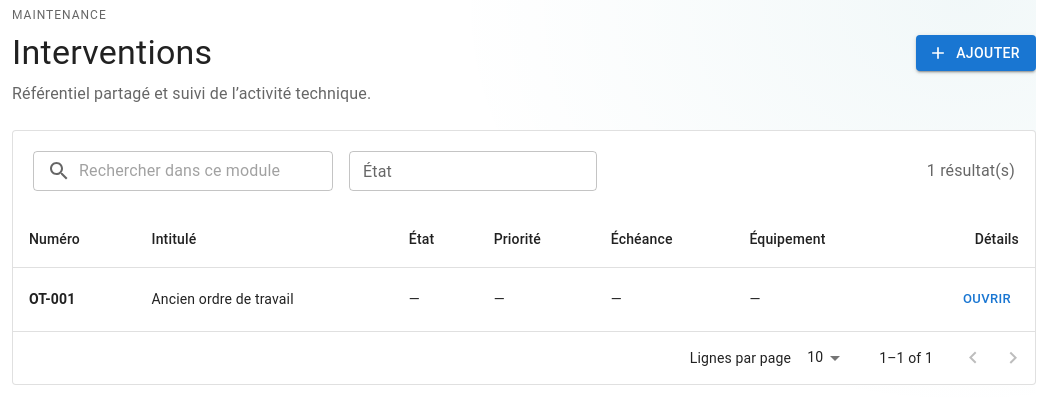
Test case: Identifiants en première colonne des tableaux › utilise un ancien numéro métier en attendant le rafraîchissement du cache
Check: the column heading "OT-001" is shown, box [13,267,136,331]
Step 1. Hover over the text "OT-001" → {"x": 52, "y": 299}, box [29,291,75,307]
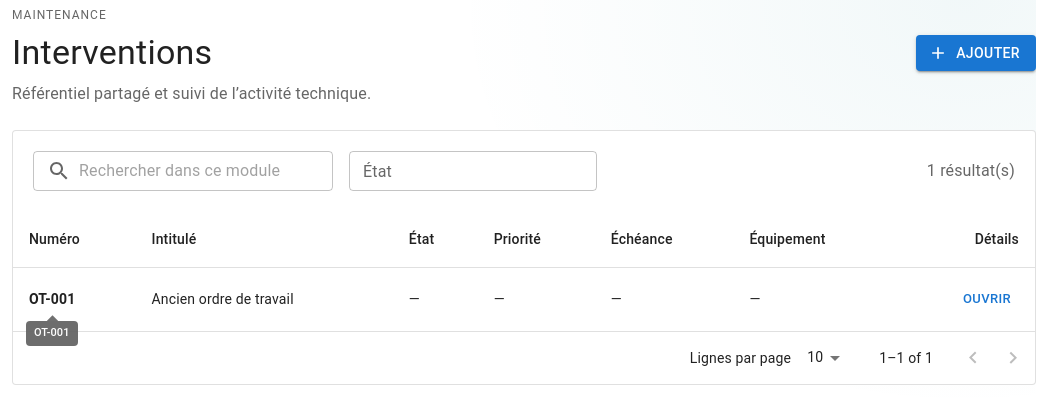
Check: the tooltip reads "OT-001", box [34,326,70,339]
